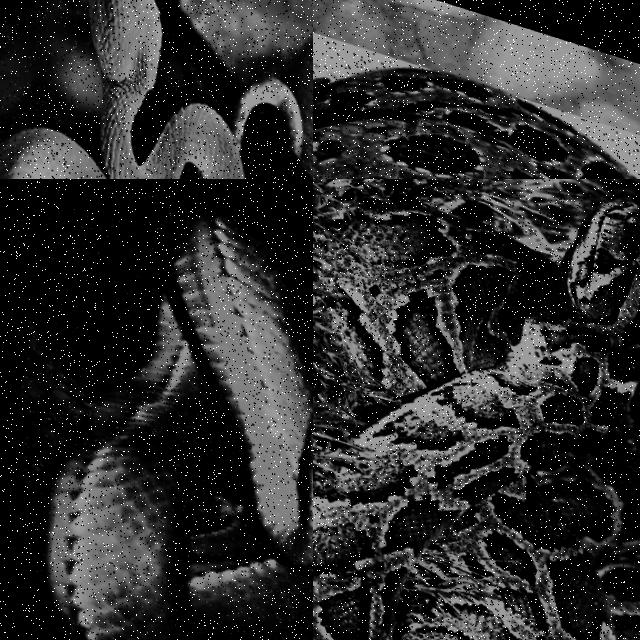Daboia siamensis: (313, 71, 633, 178)
Python bivittatus: (313, 202, 639, 639)
Trimeresurus: (43, 215, 312, 639), (89, 0, 243, 178)
snake: (313, 202, 639, 639), (43, 215, 312, 639), (313, 71, 633, 178), (89, 0, 243, 178)
